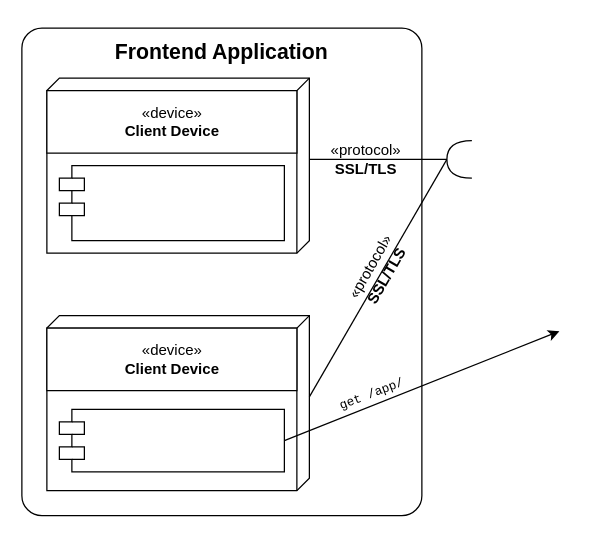
The diagram is 591 pixels wide and 538 high, and some of its shapes have lost their labels. The box of each missing label's shape, as (x1, y1, x2, y2) in pixels:
Flutter app: (58, 164, 284, 241)
Webbrowser: (58, 408, 284, 472)
